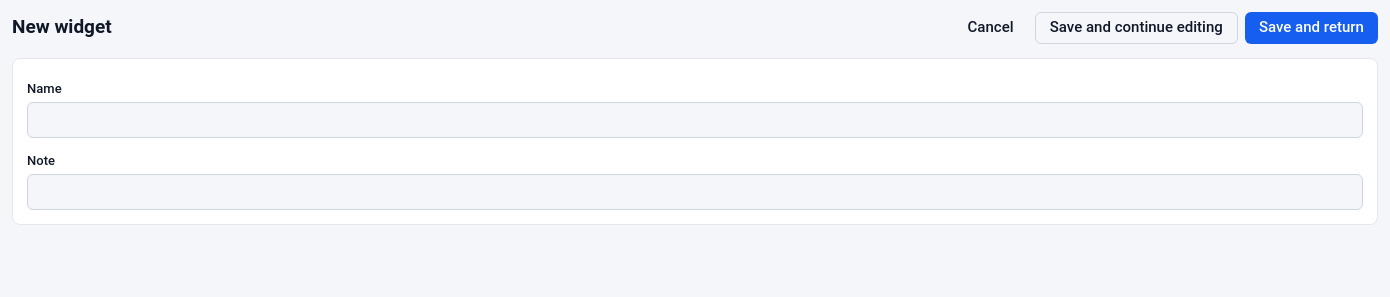
Scenario: ResourceFormPage › shows the server’s own reason, not a generic failure
This screenshot has width=1390, height=297.
In the field labelled "Name": [695, 120] box [27, 102, 1363, 138], type "Bolt"
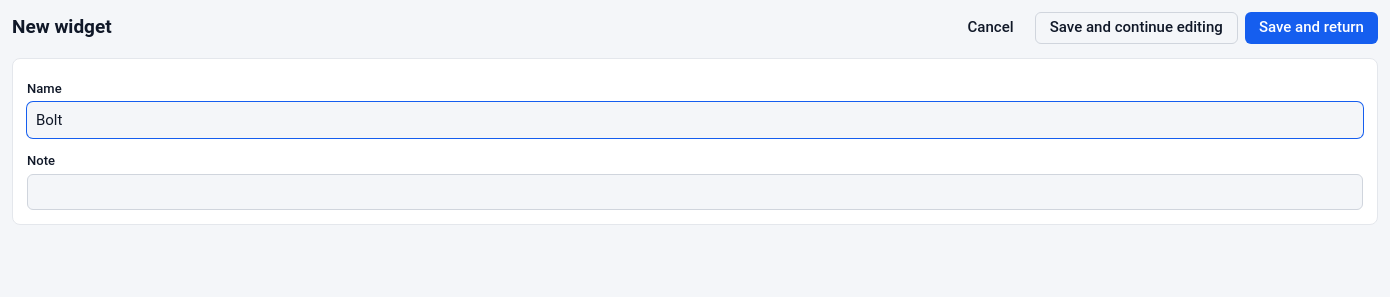
Click the button "Save and continue editing": [1136, 28] box [1035, 12, 1238, 44]
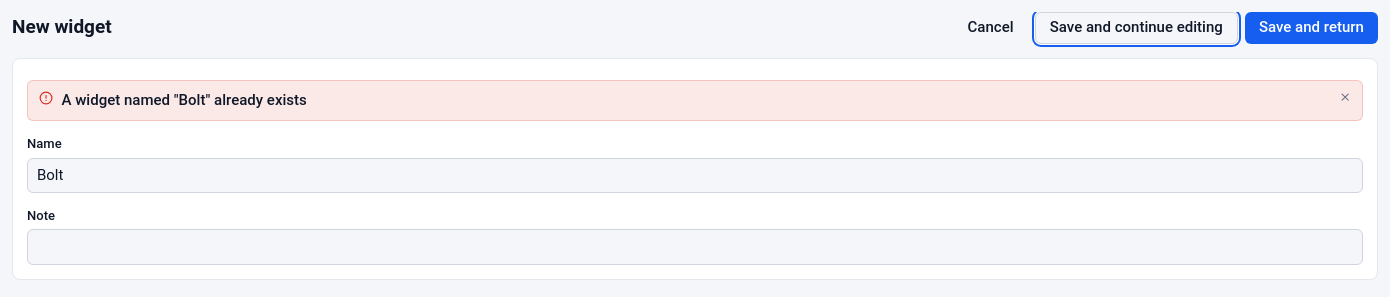
Result: the text "A widget named \"Bolt\" already exists" is shown at [62, 91, 307, 109]
